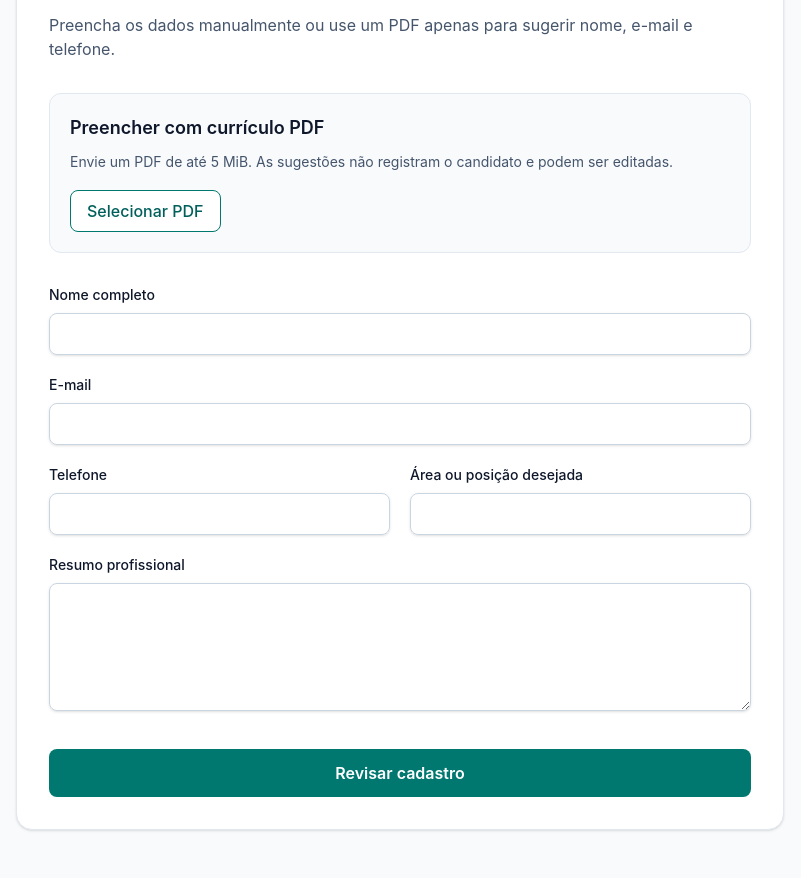
Test: CandidateRegistrationPage › exibe validação e não abre a confirmação para formulário inválido
(page scrolled)
Click the button "Revisar cadastro": coordinates (400, 773) [49, 749, 751, 797]
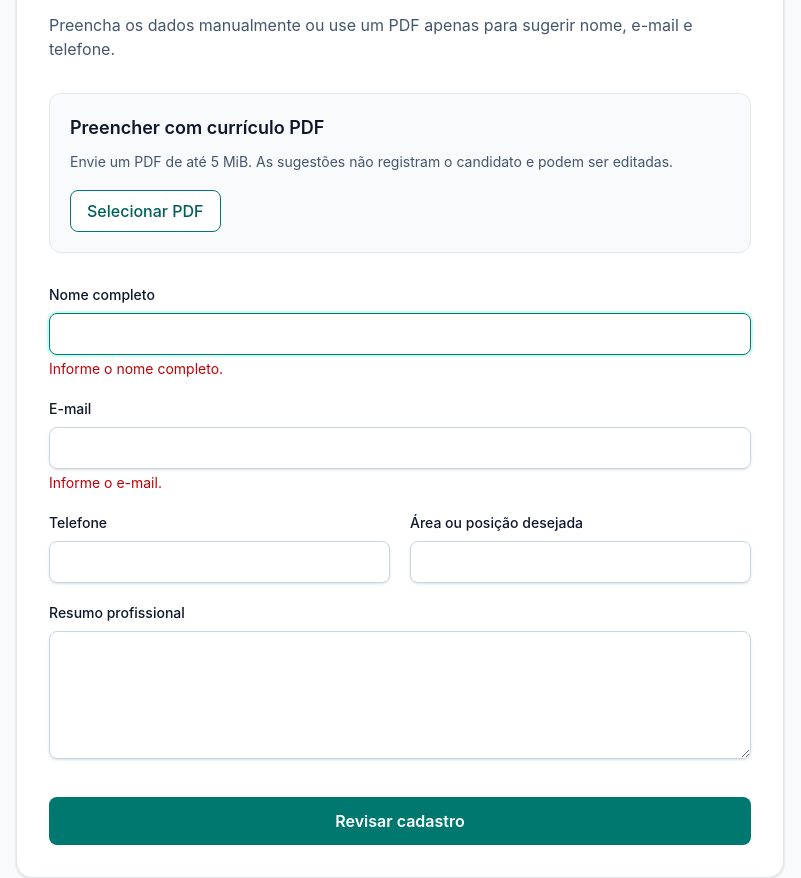
Expected: the text "Informe o nome completo." is shown, [49, 360, 223, 377]
Expected: the text "Informe o e-mail." is shown, [49, 474, 162, 491]
